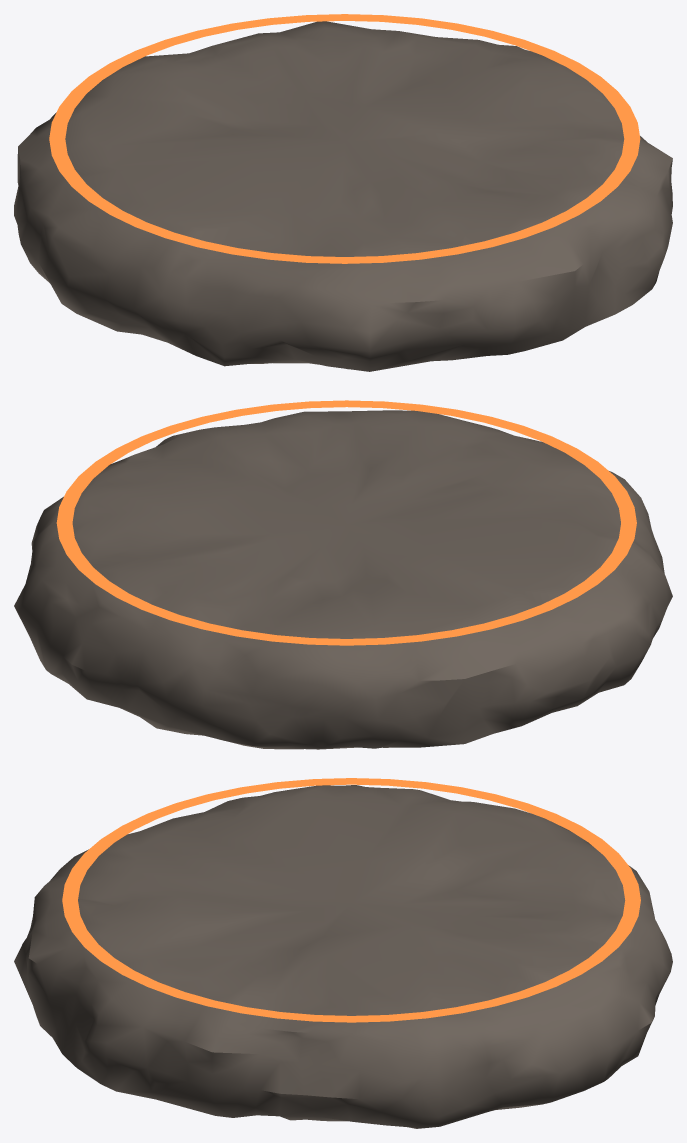
Rendered from stepping_stone.glb.
3 views of the same model, one above another, from view 1: azimuth 30°, elevation 25°; view 2: azimuth 150°, elevation 25°; view 3: azimuth 270°, elevation 25° (orthographic). The views are drawn at different scales.
Visible parts, largest first — view 1: stepping_stone; view 2: stepping_stone; view 3: stepping_stone.
Part boxes in pixels (x1,y1,x2,y2): stepping_stone: (14, 14, 672, 371); stepping_stone: (14, 400, 672, 749); stepping_stone: (14, 778, 672, 1128).
Bounding box in the file's own units: 2.51 × 0.514 × 2.5.
